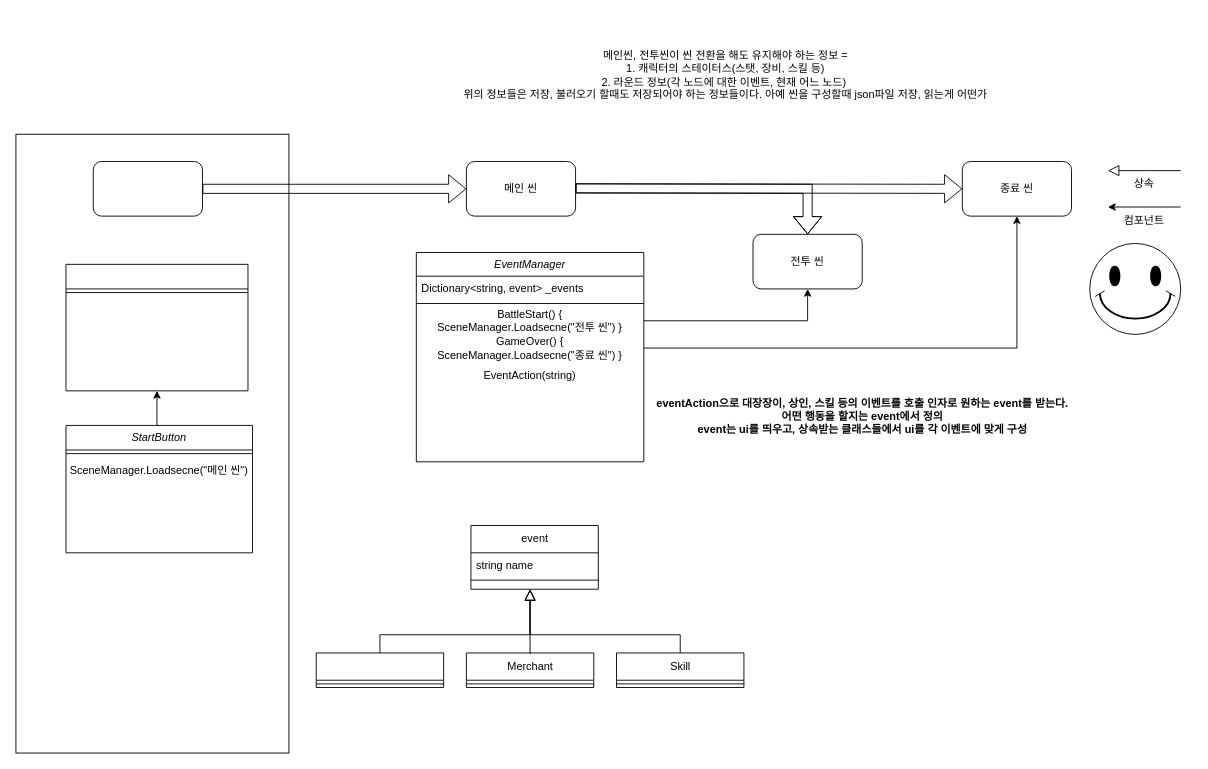
This 1208x769 diagram has some shape labels left out. Each missing label, with the centre of its shape:
"Blacksmith" belongs at point 379,670.
"TitleManager" belongs at point 156,327.
"타이틀 씬" belongs at point 147,188.
